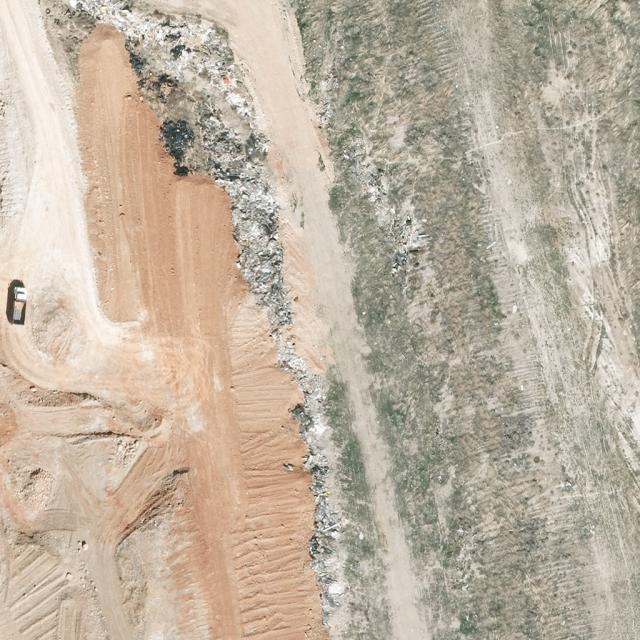vehicle: (11, 287, 28, 327)
